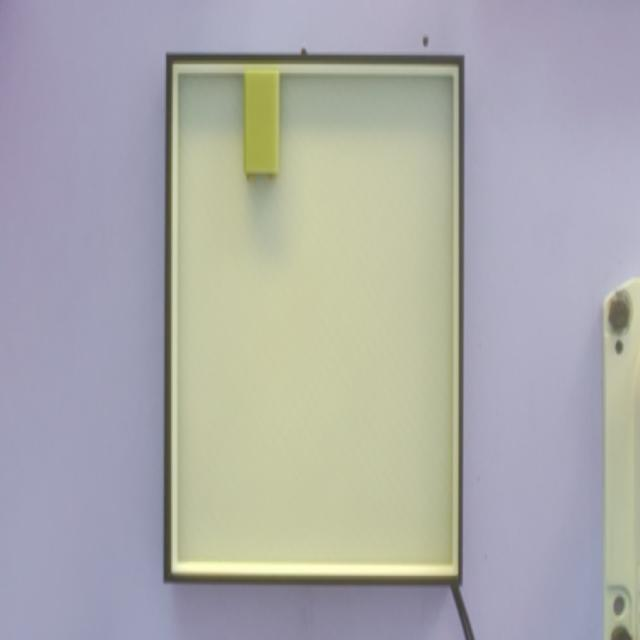bateria: (242, 73, 280, 182)
mesa: (165, 55, 464, 587)
